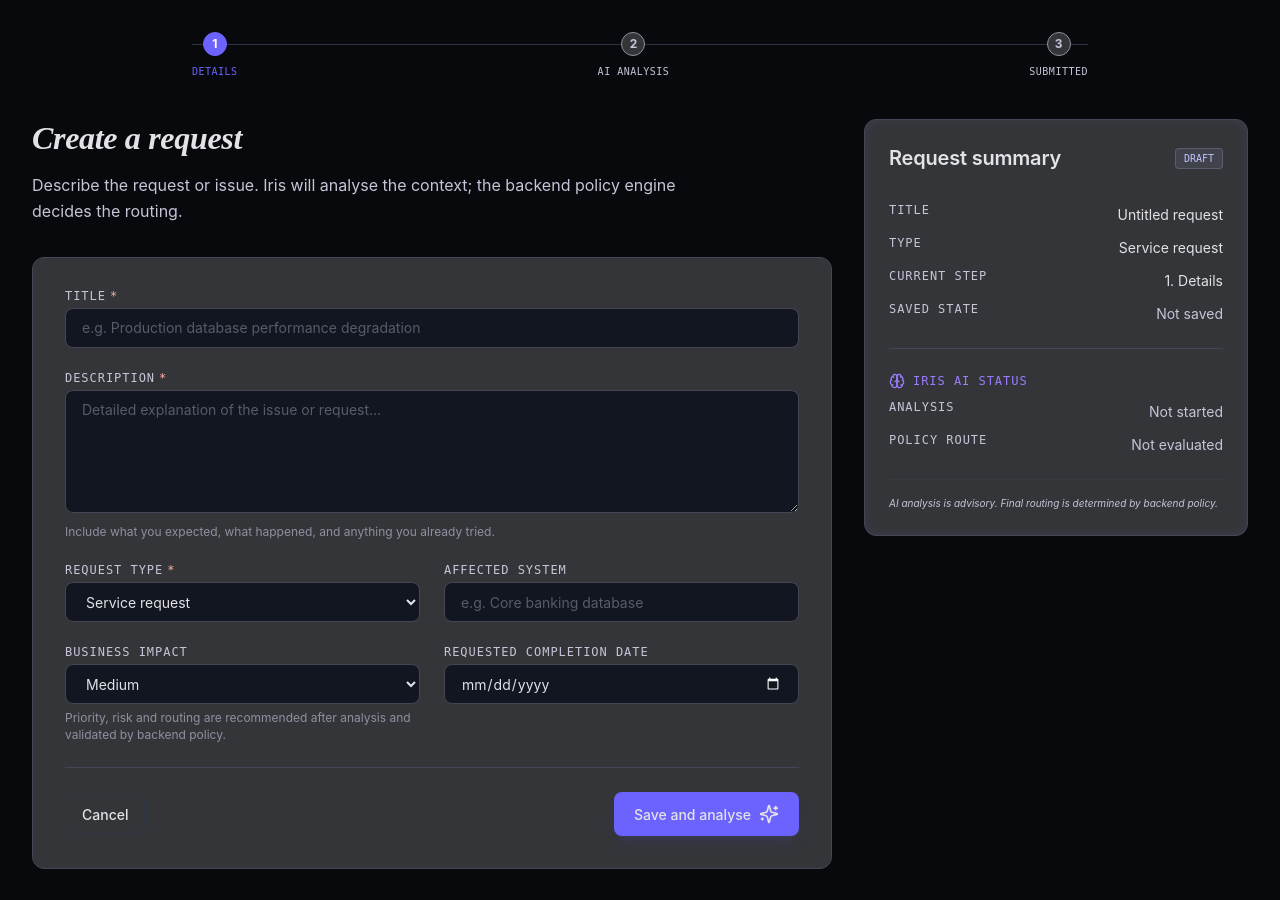
Test: CreateRequestPage › posts the CreateWorkItemRequest DTO the backend expects
Type "Production database is slow" into the field labelled "Title*" at (432, 328), box 65,308 -> 799,348
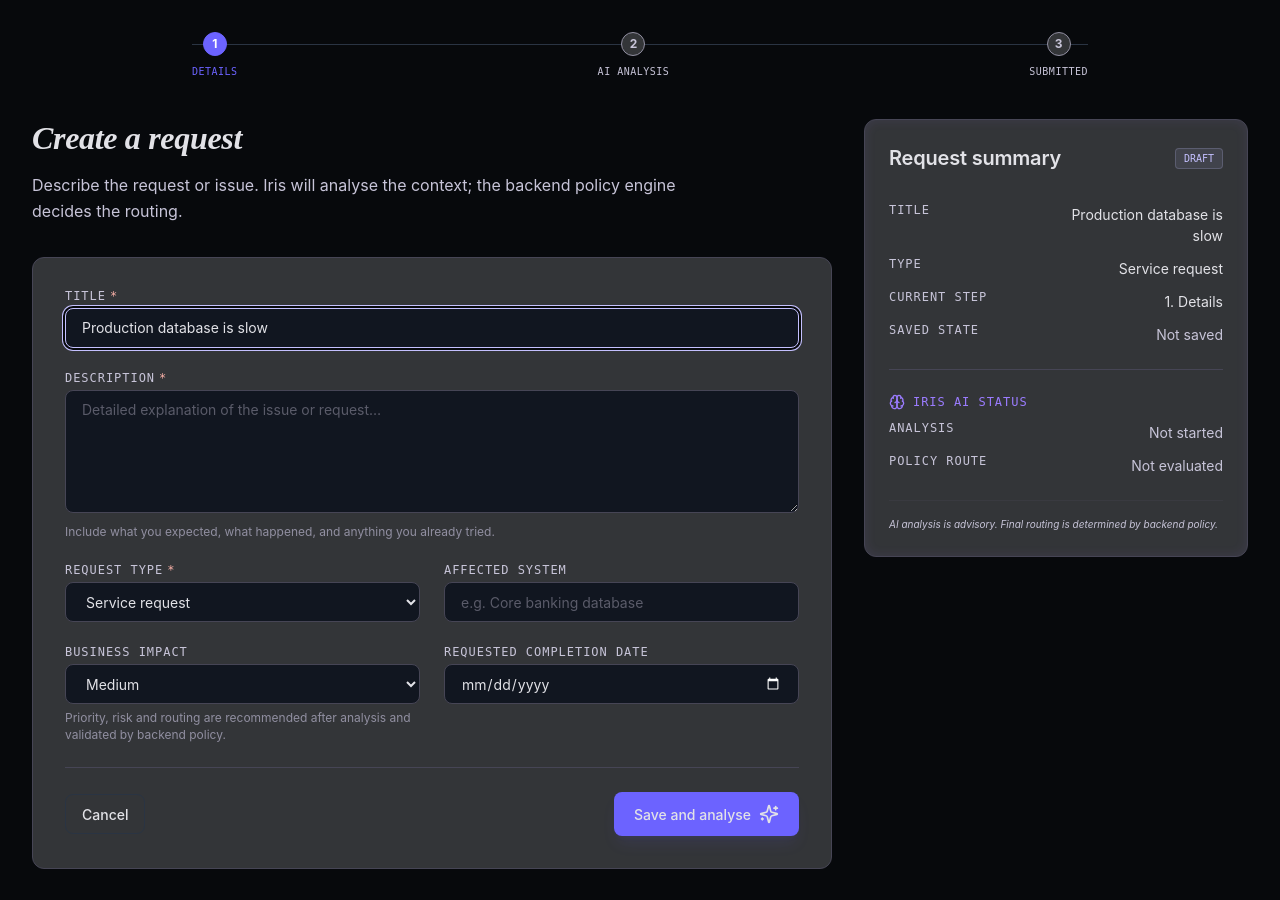
Type "Queries take thirty seconds since the deploy this morning." into the text box labelled "Description*" at (432, 451), box 65,390 -> 799,513
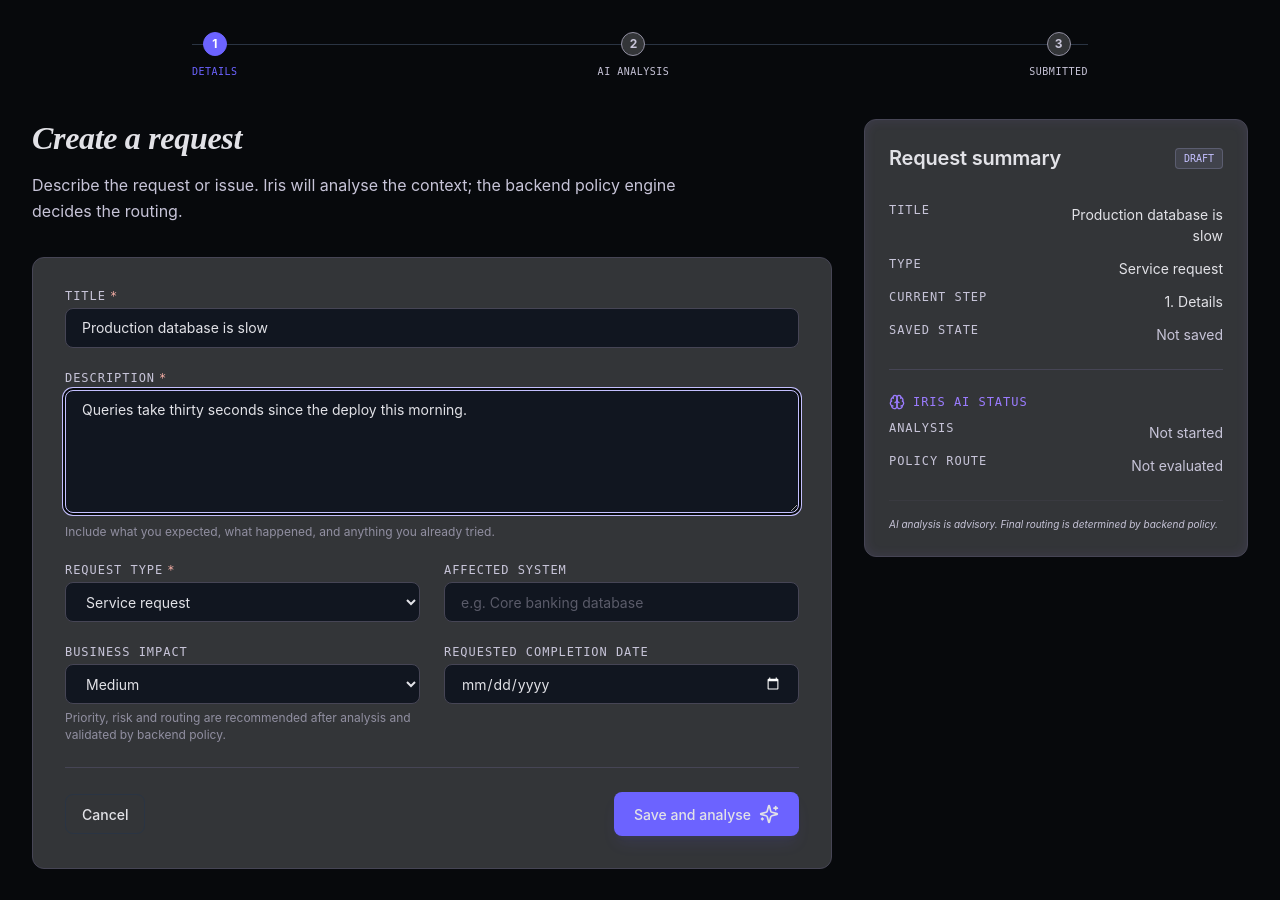
Select "High" in the dropdown labelled "Business impact" at (242, 684), box 65,664 -> 420,704
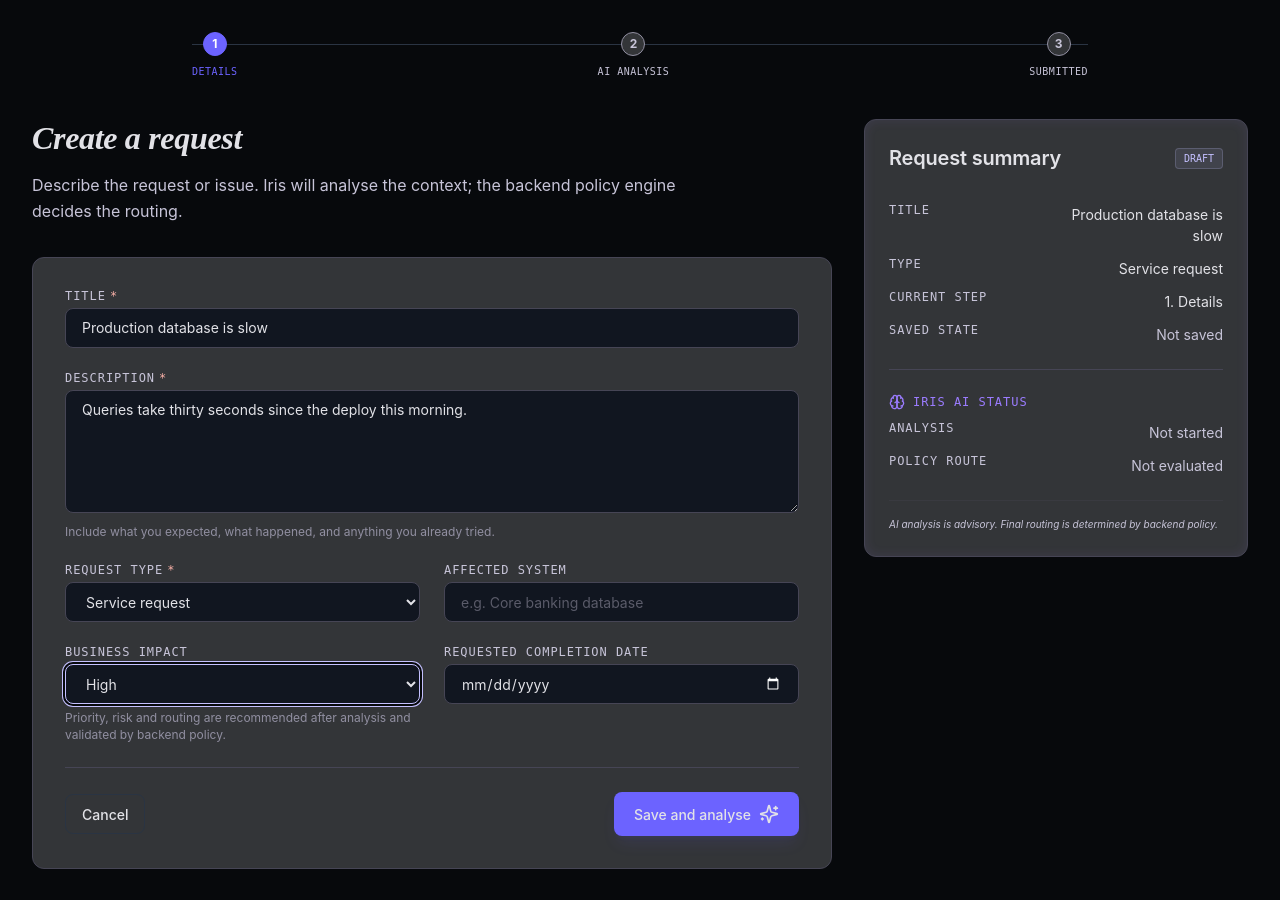
Click the button "Save and analyse" at (706, 814), box 614,792 -> 799,836
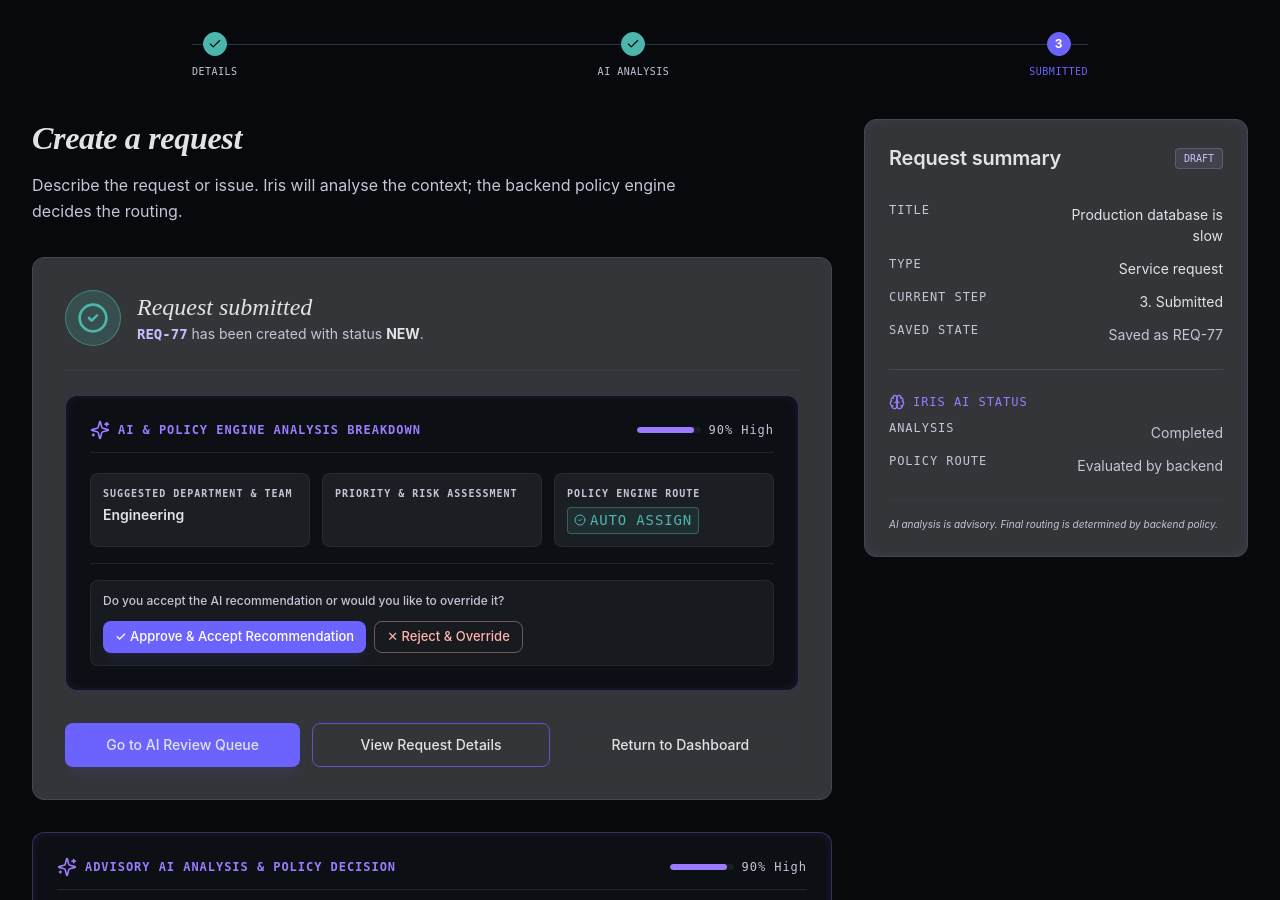
Check: the heading "Request submitted" is shown, box 137,294 -> 312,320
Check: the text "REQ-77" is shown, box 137,326 -> 188,342
